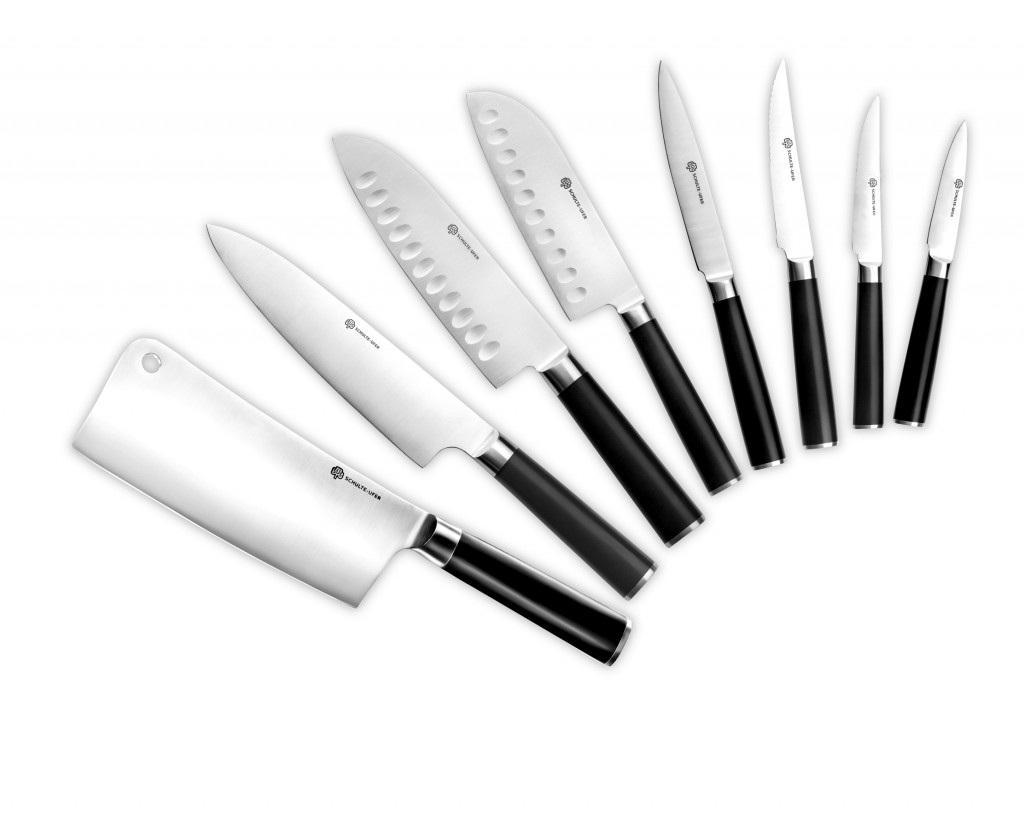faca: (208, 224, 654, 597), (337, 134, 701, 543), (466, 90, 739, 492), (659, 62, 784, 467), (769, 63, 836, 448), (894, 122, 965, 425), (852, 96, 883, 428)
facao: (74, 338, 629, 662)
